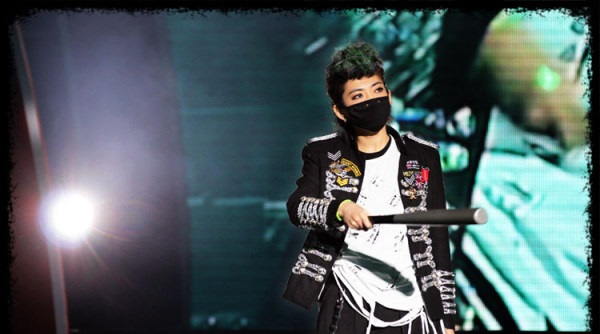face_mask: (343, 74, 389, 133)
